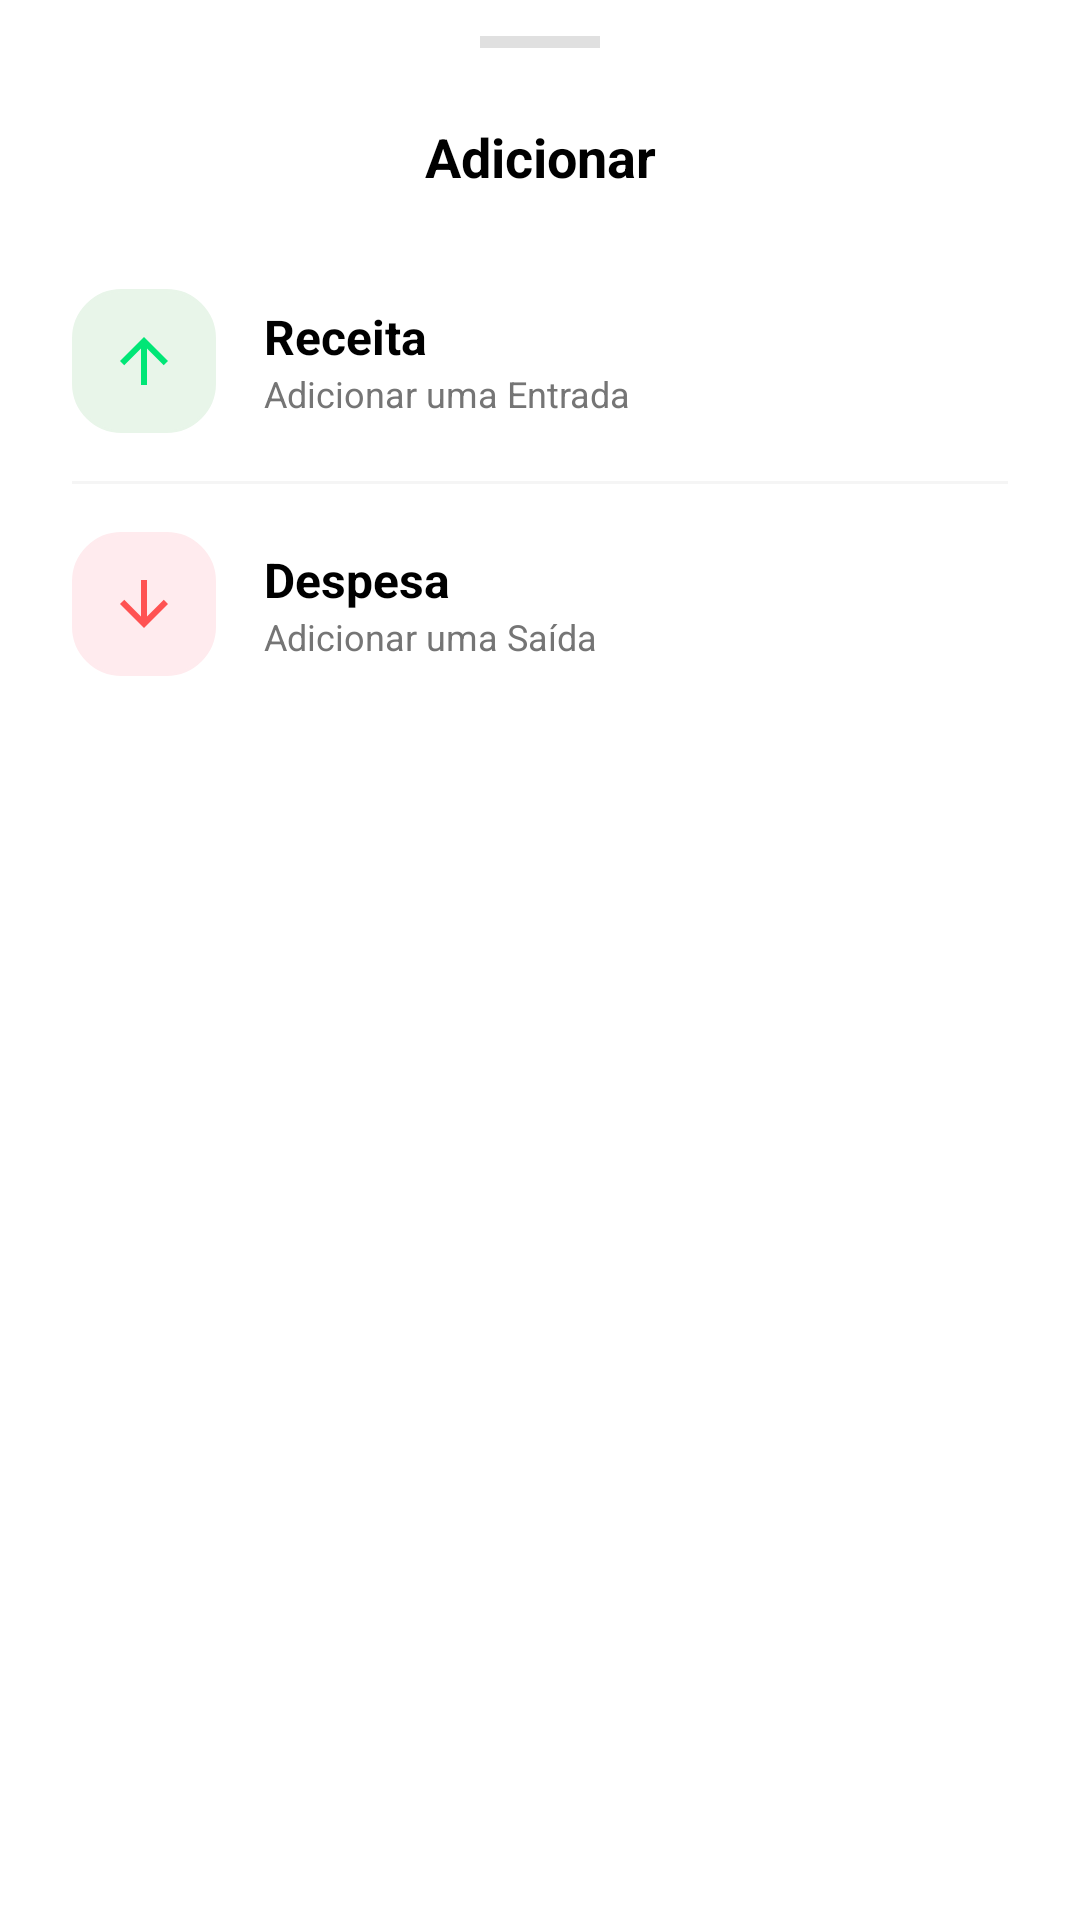

Locate icon controls on the screen. Image size 1080×1920, boxes as box=[x1, y1, x2, y2].
arrow down: box=[120, 580, 168, 628]
arrow up: box=[120, 337, 168, 385]
